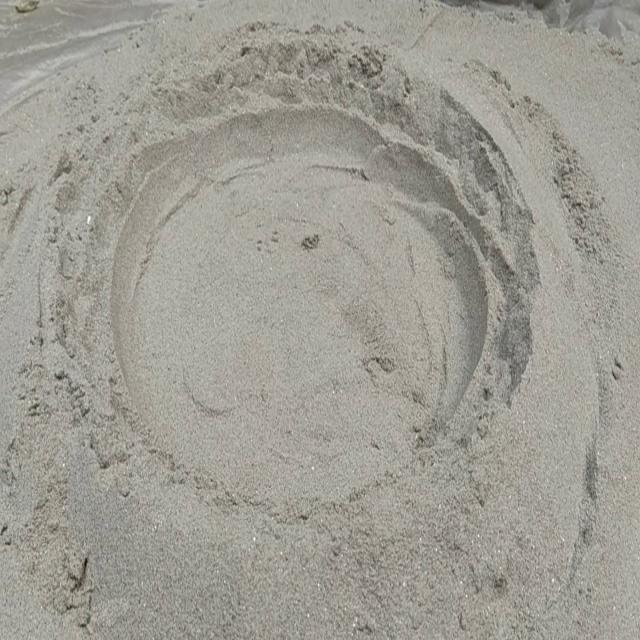C40: (114, 97, 511, 514)
